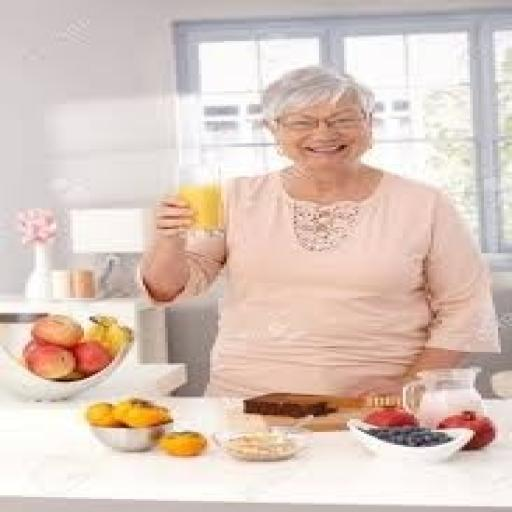drinking: (70, 74, 512, 376)
